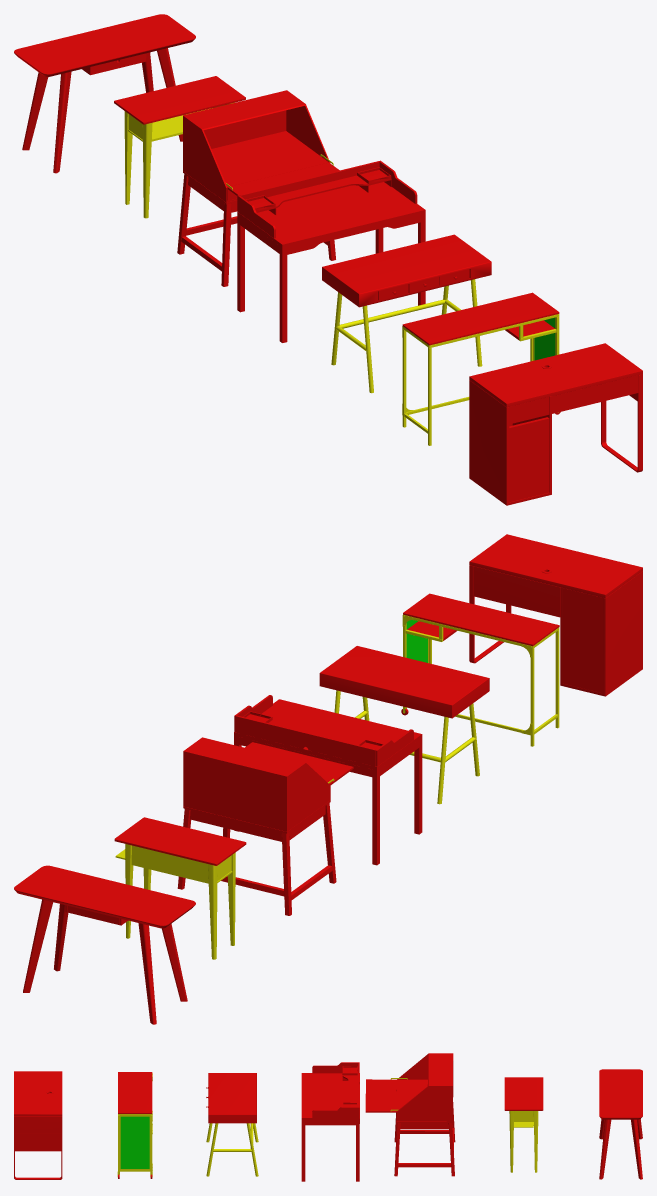
The model's file is thorkea_desks_grp.fbx.
3 renders of one model, top to bottom at view 1: azimuth 30°, elevation 25°; view 2: azimuth 150°, elevation 25°; view 3: azimuth 270°, elevation 25°, orthographic. The views are drawn at different scales.
Visible parts, largest first — view 1: thorkea_desk_alve, thorkea_desk_gustav, thorkea_desk_micke, thorkea_desk_lillasen, thorkea_desk_lisabo, thorkea_desk_fjallbo, thorkea_desk_norrasen, thorkea_desk_door_micke, thorkea_desk_drawer_2_micke, thorkea_desk_drawer_1_micke; view 2: thorkea_desk_micke, thorkea_desk_alve, thorkea_desk_gustav, thorkea_desk_lisabo, thorkea_desk_lillasen, thorkea_desk_fjallbo, thorkea_desk_norrasen; view 3: thorkea_desk_alve, thorkea_desk_micke, thorkea_desk_gustav, thorkea_desk_fjallbo, thorkea_desk_lillasen, thorkea_desk_lisabo, thorkea_desk_norrasen.
Boxes of the visible parts, x1,y1,x2,y2 form: thorkea_desk_alve: (177, 90, 339, 286); thorkea_desk_gustav: (237, 160, 425, 342); thorkea_desk_micke: (469, 343, 642, 505); thorkea_desk_lillasen: (322, 234, 491, 393); thorkea_desk_lisabo: (14, 14, 195, 173); thorkea_desk_fjallbo: (402, 292, 560, 445); thorkea_desk_norrasen: (114, 76, 245, 218); thorkea_desk_door_micke: (509, 417, 549, 502); thorkea_desk_drawer_2_micke: (552, 375, 638, 413); thorkea_desk_drawer_1_micke: (509, 397, 549, 424); thorkea_desk_micke: (469, 534, 642, 696); thorkea_desk_alve: (177, 737, 353, 915); thorkea_desk_gustav: (234, 695, 422, 865); thorkea_desk_lisabo: (14, 865, 195, 1024); thorkea_desk_lillasen: (319, 646, 489, 804); thorkea_desk_fjallbo: (401, 593, 559, 746); thorkea_desk_norrasen: (114, 817, 246, 959); thorkea_desk_alve: (365, 1053, 455, 1176); thorkea_desk_micke: (14, 1071, 62, 1179); thorkea_desk_gustav: (301, 1062, 359, 1181); thorkea_desk_fjallbo: (117, 1072, 152, 1178); thorkea_desk_lillasen: (206, 1073, 258, 1176); thorkea_desk_lisabo: (599, 1069, 642, 1179); thorkea_desk_norrasen: (504, 1077, 543, 1172).
Size of the model in its own units: 118 by 101 by 647.
